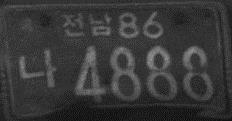4: (72, 44, 107, 104)
6: (141, 9, 164, 40)
8: (182, 44, 214, 104), (109, 45, 142, 103), (145, 45, 178, 103), (116, 10, 139, 39)
나: (17, 47, 57, 89)
전남_O: (58, 10, 112, 37)
